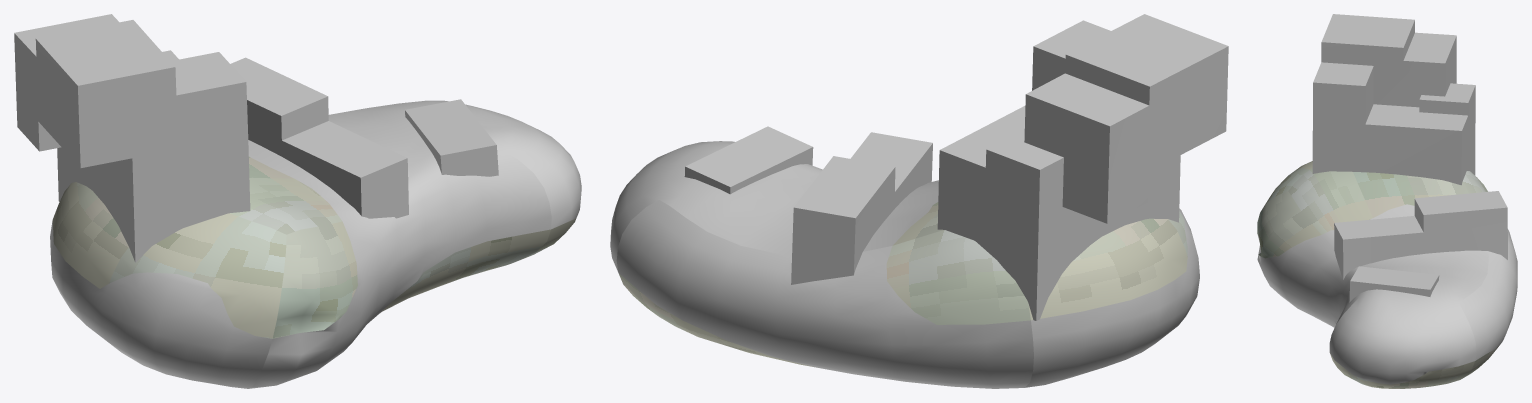
Rendered from broadbeanplanetclow.dae.
3 views of the same model, side by side, from view 1: azimuth 30°, elevation 25°; view 2: azimuth 150°, elevation 25°; view 3: azimuth 270°, elevation 25° (orthographic). The views are drawn at different scales.
Visible parts, largest first — view 1: n1b2, n0b0, n2b1; view 2: n1b2, n0b0, n2b1; view 3: n1b2, n0b0, n2b1.
Part boxes in pixels (<box>): n1b2: <box>14,14,498,262</box>; n0b0: <box>50,100,581,388</box>; n2b1: <box>52,156,575,338</box>; n1b2: <box>684,14,1228,320</box>; n0b0: <box>610,141,1199,388</box>; n2b1: <box>618,202,1187,367</box>; n1b2: <box>1312,14,1507,302</box>; n0b0: <box>1257,204,1517,384</box>; n2b1: <box>1257,161,1501,388</box>.
Size of the model in its own units: 3325 by 2000 by 2027.
